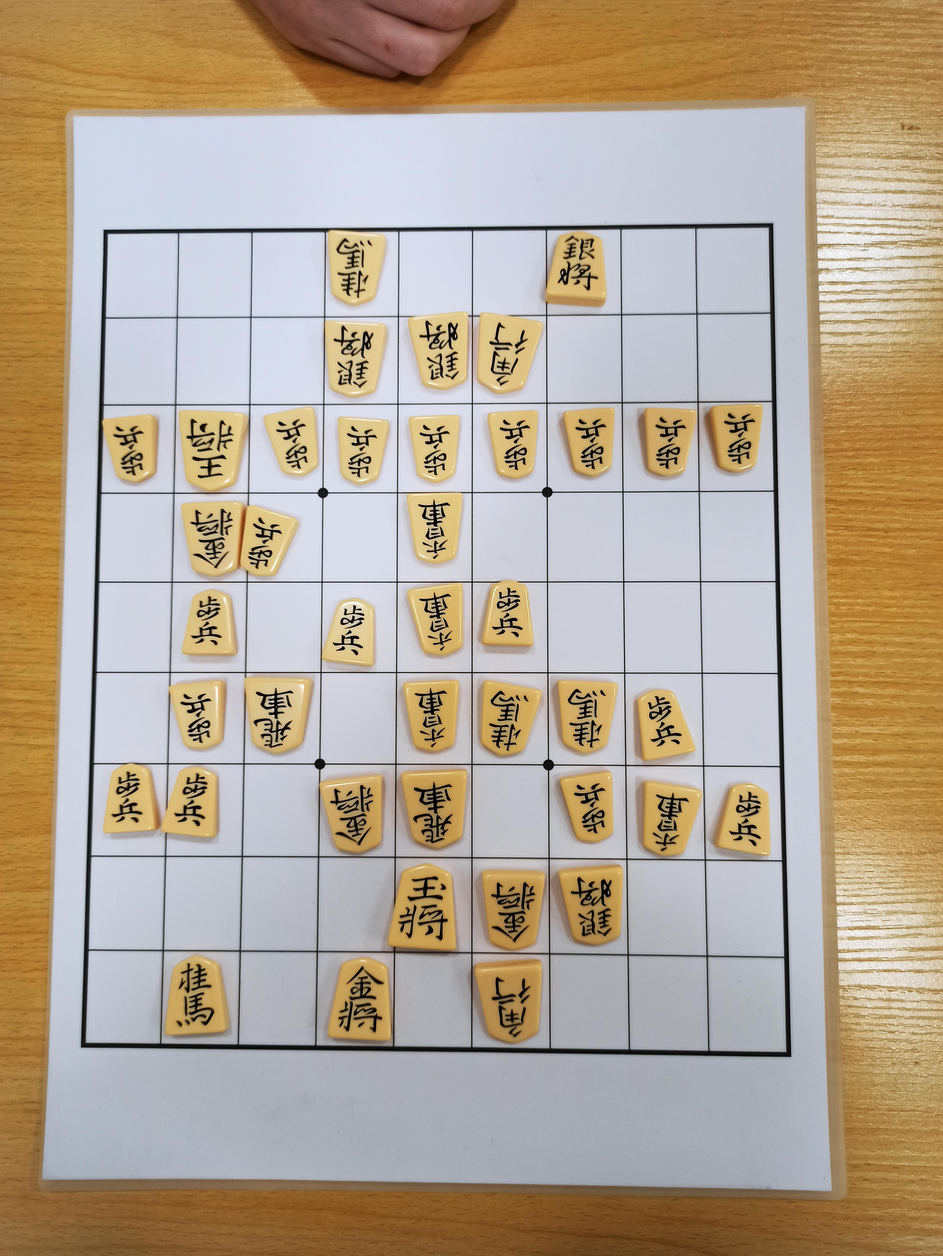board: (82, 224, 788, 1053)
